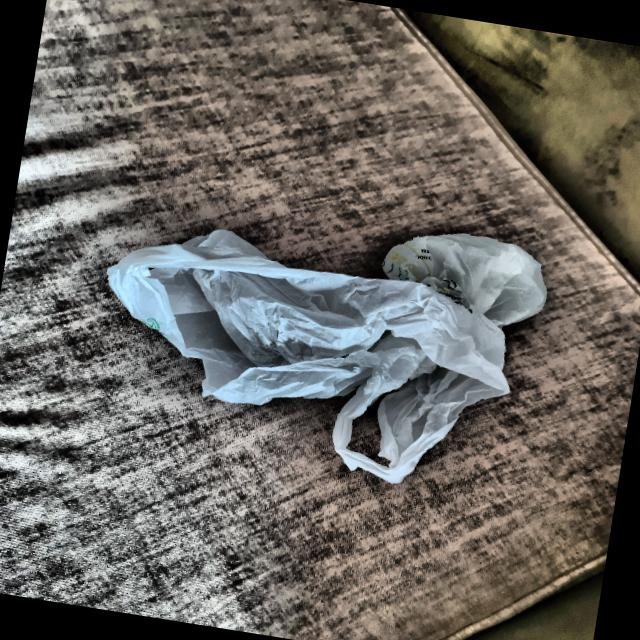plastic bag: (81, 180, 554, 504)
